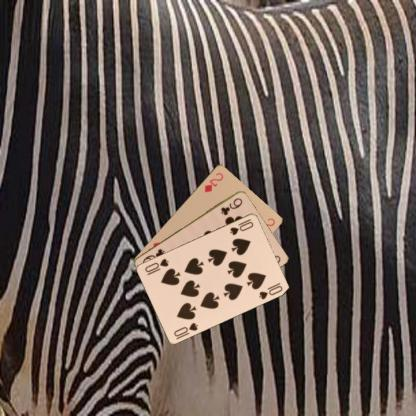10s: (228, 216, 255, 236), (170, 320, 199, 338)
2d: (201, 170, 224, 194)
9c: (219, 195, 244, 217)
